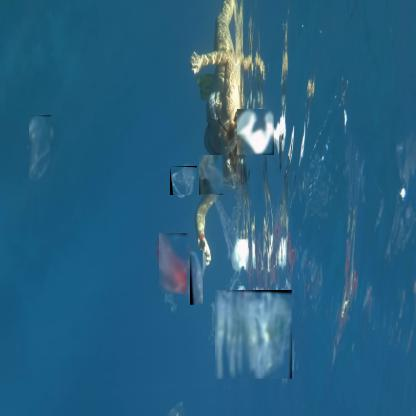plastic-bag: (160, 233, 190, 295)
waste: (215, 290, 293, 380), (237, 109, 275, 156), (30, 115, 54, 182), (200, 155, 226, 196), (170, 166, 198, 196), (190, 250, 204, 306)
